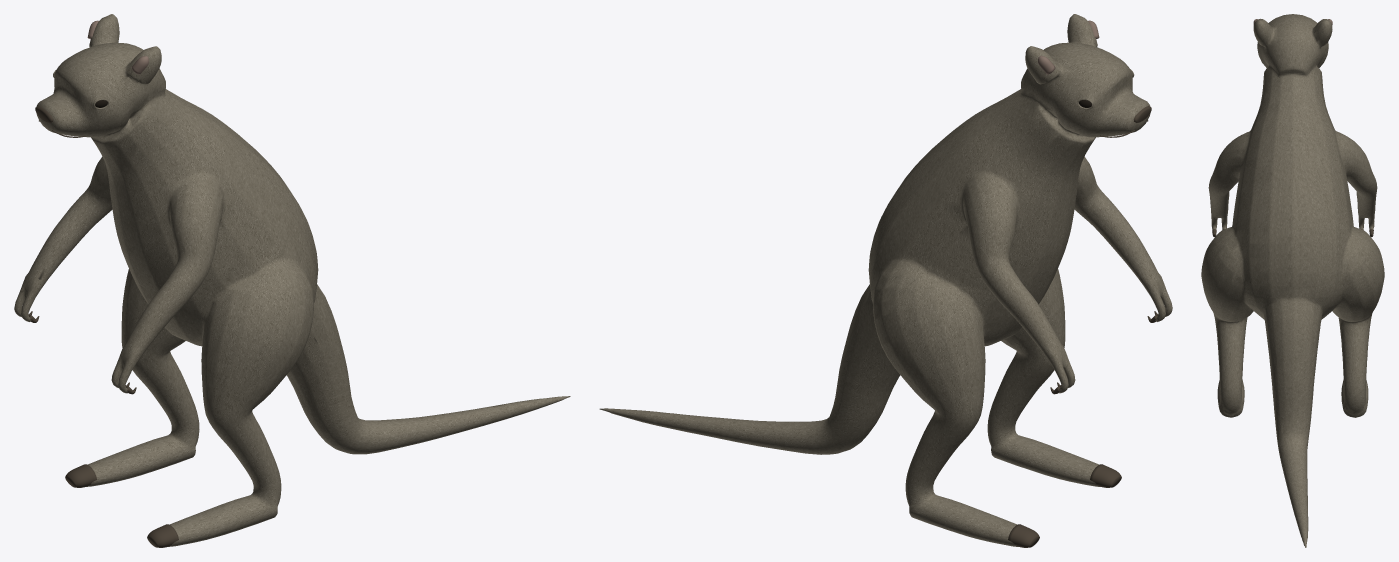
3 views of the same model, side by side, from view 1: azimuth 30°, elevation 25°; view 2: azimuth 150°, elevation 25°; view 3: azimuth 270°, elevation 25° (orthographic). The views are drawn at different scales.
Visible parts, largest first — view 1: Procoptodon continuous anatomical body; view 2: Procoptodon continuous anatomical body; view 3: Procoptodon continuous anatomical body.
Part boxes in pixels (box(x1,y1,x2,y2)): Procoptodon continuous anatomical body: box(14, 14, 570, 546); Procoptodon continuous anatomical body: box(599, 14, 1172, 546); Procoptodon continuous anatomical body: box(1201, 14, 1384, 547).
Bounding box in the file's own units: 1.21 × 1.04 × 0.4737.
4 materials, 1 textured.
